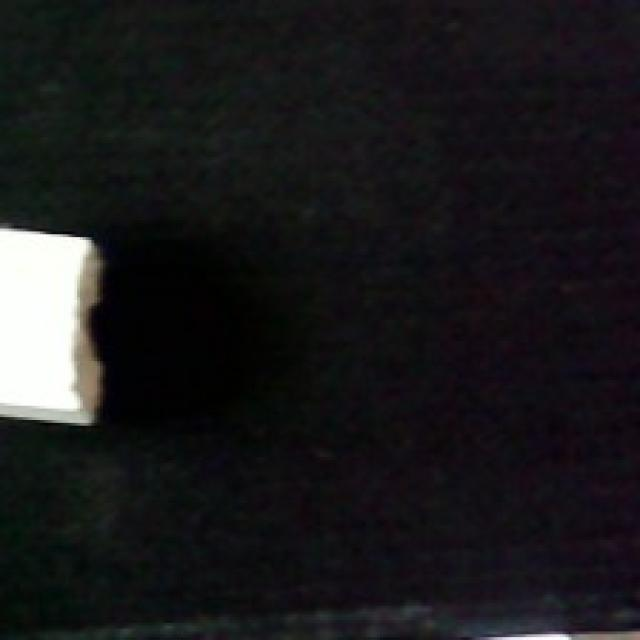defected: (0, 223, 109, 428)
